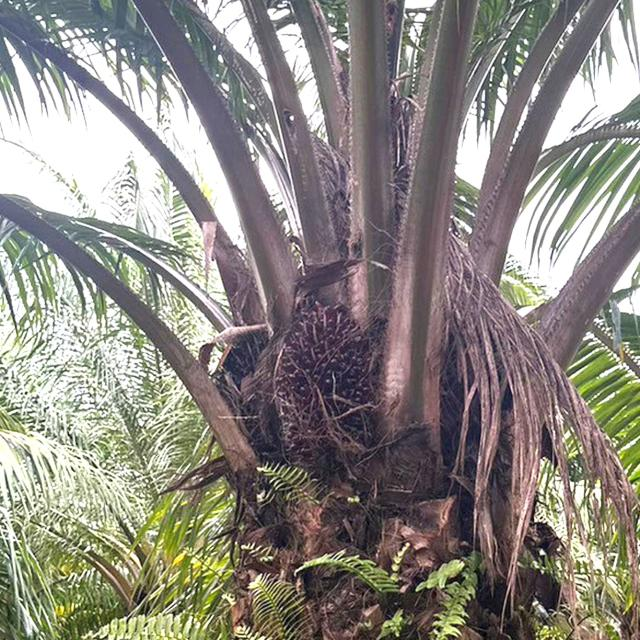ripe: (258, 292, 398, 473)
